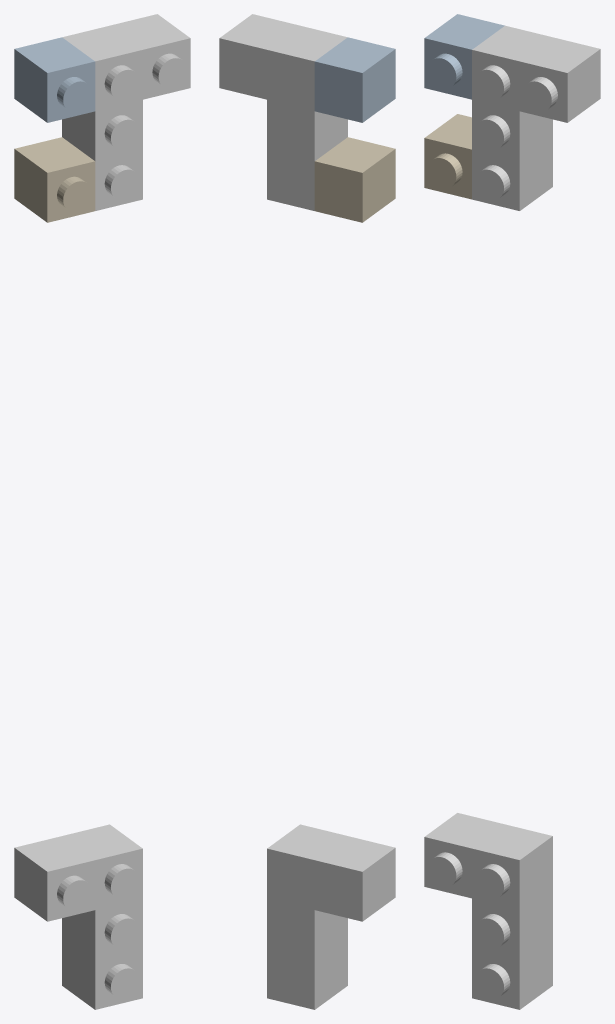
The model's file is current.glb.
3 renders of one model, left to right at view 1: azimuth 30°, elevation 25°; view 2: azimuth 150°, elevation 25°; view 3: azimuth 330°, elevation 25°, orthographic.
Visible parts, largest first — view 1: world; view 2: world; view 3: world.
Boxes of the visible parts, <box> form: world: <box>14,14,190,1009</box>; world: <box>219,14,395,1009</box>; world: <box>424,14,600,1009</box>.
Bounding box in the file's own units: 24 × 152 × 11.4.
